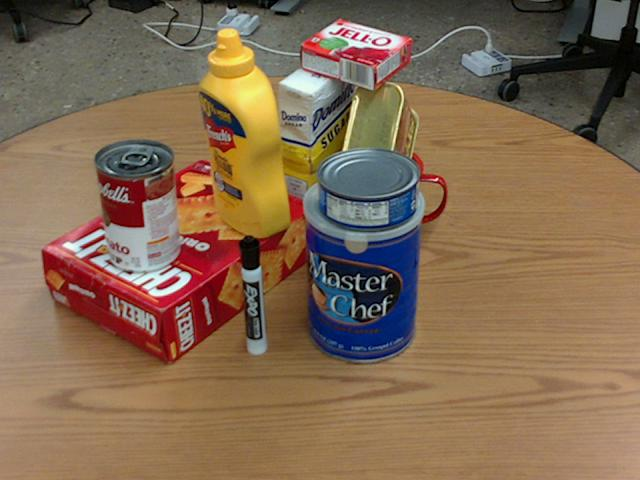cracker_box: (44, 163, 316, 364)
gelatin_box: (297, 20, 410, 90)
large_marker: (240, 235, 267, 354)
master_chef_can: (300, 168, 422, 361)
mug: (337, 142, 448, 247)
mustard_bottle: (197, 28, 289, 236)
potted_meat_can: (340, 81, 416, 198)
sugar_box: (278, 51, 357, 239)
tomato_soup_can: (94, 138, 180, 272)
tuna_fish_can: (315, 146, 419, 229)
